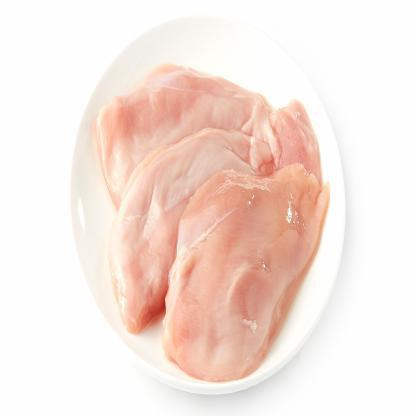chicken: (93, 138, 298, 318), (171, 186, 318, 383), (87, 70, 284, 206)
